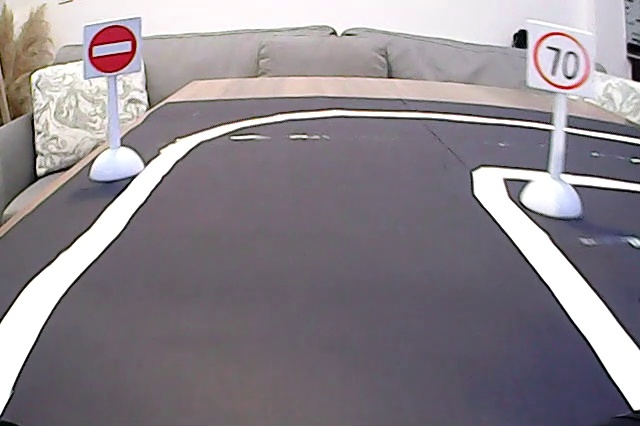do not enter: (87, 21, 138, 78)
speed limit 70: (531, 27, 594, 93)
